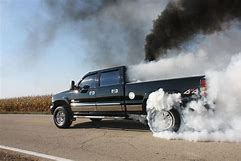smoke: (144, 1, 241, 62)
